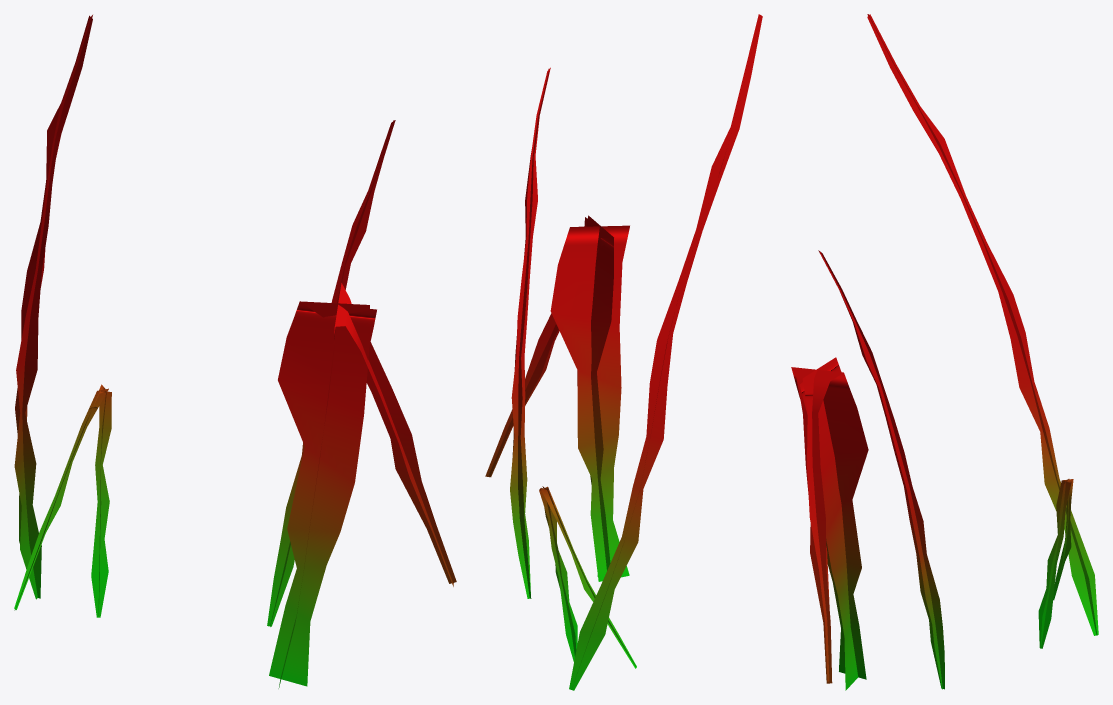
The model's file is White Everlasting_LOD0_Var11_ucvobbbia.fbx.
The picture shows the model from 3 angles, left to right: view 1: azimuth 30°, elevation 25°; view 2: azimuth 150°, elevation 25°; view 3: azimuth 270°, elevation 25°; orthographic projection. The views are drawn at different scales.
Visible parts, largest first — view 1: _d68a_Var11_LOD0; view 2: _d68a_Var11_LOD0; view 3: _d68a_Var11_LOD0.
Boxes of the visible parts, left/top/right/bottom form: _d68a_Var11_LOD0: left=14, top=15, right=456, bottom=688; _d68a_Var11_LOD0: left=485, top=14, right=762, bottom=690; _d68a_Var11_LOD0: left=791, top=14, right=1098, bottom=690.
Bounding box in the file's own units: 9.92 × 19.59 × 9.18.
